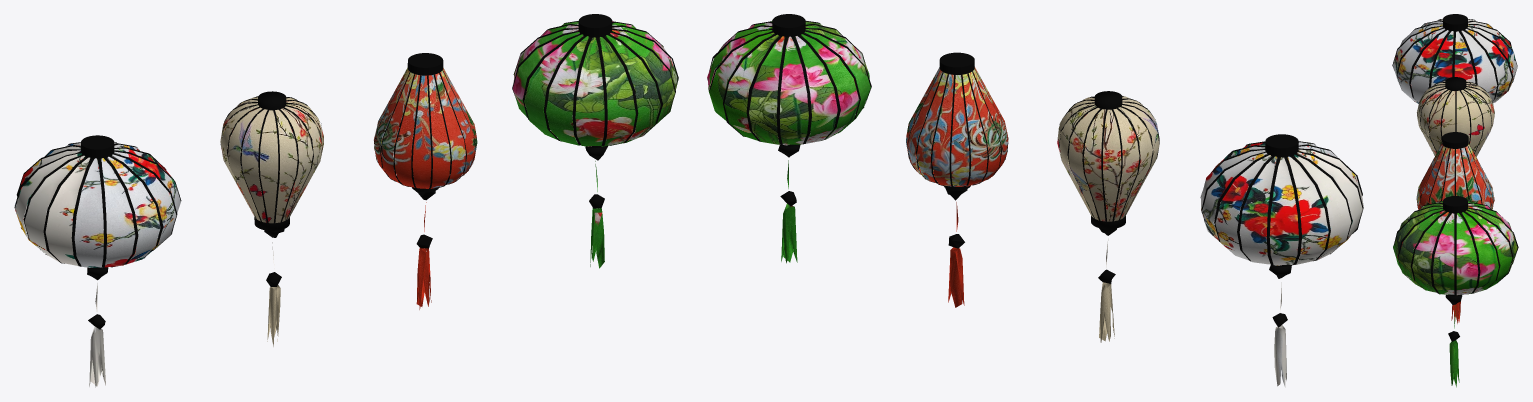
Rendered from vn_lanterns.glb.
3 renders of one model, left to right at view 1: azimuth 30°, elevation 25°; view 2: azimuth 150°, elevation 25°; view 3: azimuth 270°, elevation 25°, orthographic. The views are drawn at different scales.
Visible parts, largest first — view 1: lantern 2_lantern 2_0, lantern 4_lantern 4_0, lantern 1_dark _0, lantern 1_lantern 1_0, lantern 3_lantern 3_0; view 2: lantern 4_lantern 4_0, lantern 2_lantern 2_0, lantern 1_dark _0, lantern 1_lantern 1_0, lantern 3_lantern 3_0; view 3: lantern 4_lantern 4_0, lantern 1_dark _0, lantern 2_lantern 2_0, lantern 3_lantern 3_0, lantern 1_lantern 1_0.
Boxes of the visible parts, x1,y1,x2,y2 form: lantern 2_lantern 2_0: (14, 142, 274, 387); lantern 4_lantern 4_0: (512, 21, 678, 268); lantern 1_dark _0: (14, 14, 678, 329); lantern 1_lantern 1_0: (373, 68, 477, 309); lantern 3_lantern 3_0: (220, 97, 323, 346); lantern 4_lantern 4_0: (707, 21, 870, 263); lantern 2_lantern 2_0: (1106, 142, 1363, 387); lantern 1_dark _0: (707, 14, 1363, 327); lantern 1_lantern 1_0: (906, 67, 1008, 307); lantern 3_lantern 3_0: (1057, 96, 1159, 342); lantern 4_lantern 4_0: (1393, 201, 1517, 387); lantern 1_dark _0: (1392, 14, 1518, 341); lantern 2_lantern 2_0: (1393, 19, 1517, 103); lantern 3_lantern 3_0: (1416, 80, 1494, 159); lantern 1_lantern 1_0: (1416, 143, 1494, 323).
Size of the model in its own units: 1.49 by 0.55 by 0.3378.
5 materials, 4 textured.
